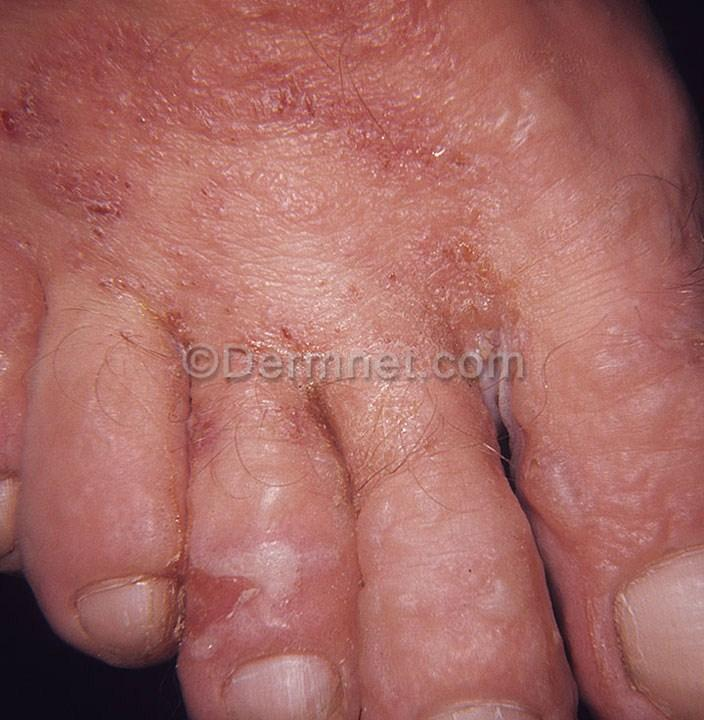Eczema: (521, 396, 600, 546), (327, 101, 439, 198), (394, 238, 520, 324), (310, 5, 456, 76), (138, 286, 237, 384), (432, 119, 503, 255), (44, 389, 133, 485), (572, 304, 647, 413), (50, 155, 142, 241), (246, 149, 335, 236), (598, 454, 680, 546), (597, 188, 693, 262), (247, 446, 326, 535), (499, 84, 586, 164), (402, 461, 478, 551), (603, 62, 678, 152), (242, 518, 322, 602), (440, 621, 523, 701), (237, 51, 314, 134), (648, 312, 704, 425), (575, 580, 631, 691), (98, 62, 177, 138), (110, 473, 174, 566), (467, 552, 540, 632), (77, 258, 168, 320), (347, 488, 415, 570), (336, 273, 394, 369), (342, 408, 409, 489), (277, 369, 346, 446), (4, 82, 81, 145), (379, 595, 450, 661), (184, 166, 248, 230), (257, 320, 327, 376), (170, 43, 232, 99), (38, 31, 100, 83), (57, 473, 106, 536), (211, 0, 294, 34), (225, 268, 280, 314), (103, 29, 175, 64), (248, 605, 310, 645), (0, 301, 42, 346), (180, 634, 227, 674), (290, 254, 328, 303), (5, 234, 52, 265), (0, 344, 15, 410)
